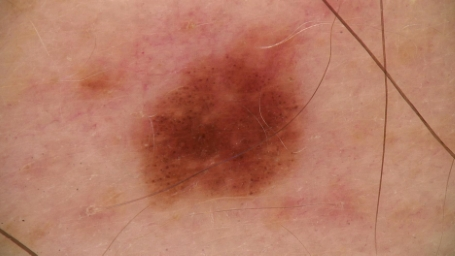melanoma: (138, 56, 310, 198)
